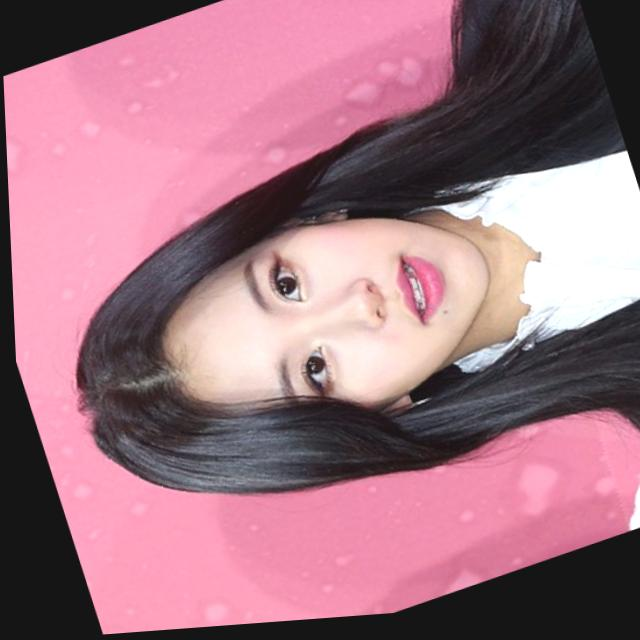face: (101, 157, 525, 503)
